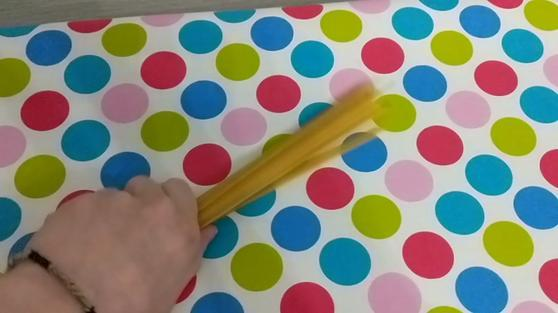spaghetti: (192, 63, 394, 238)
